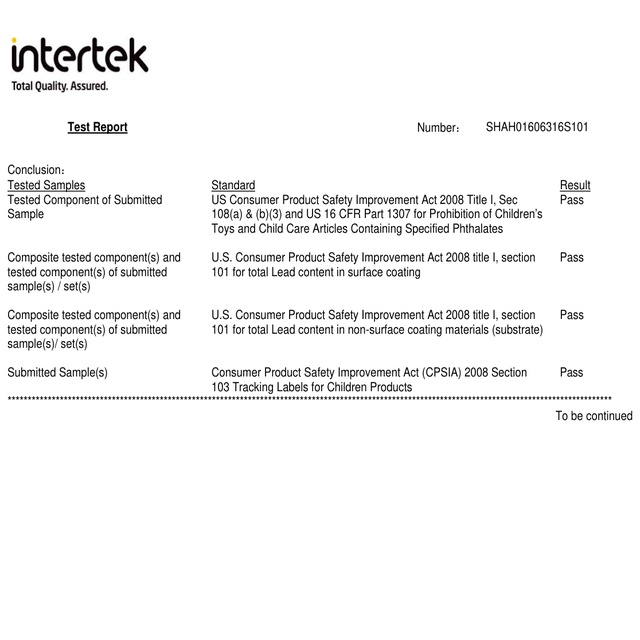intertek: (7, 35, 161, 78)
